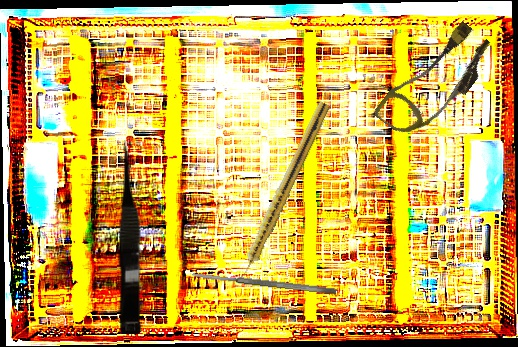Cannula: (372, 11, 500, 152)
Handpiece: (232, 99, 332, 284)
Micro Scissor: (116, 139, 146, 335)
Spatula Surgical: (192, 270, 337, 296)
